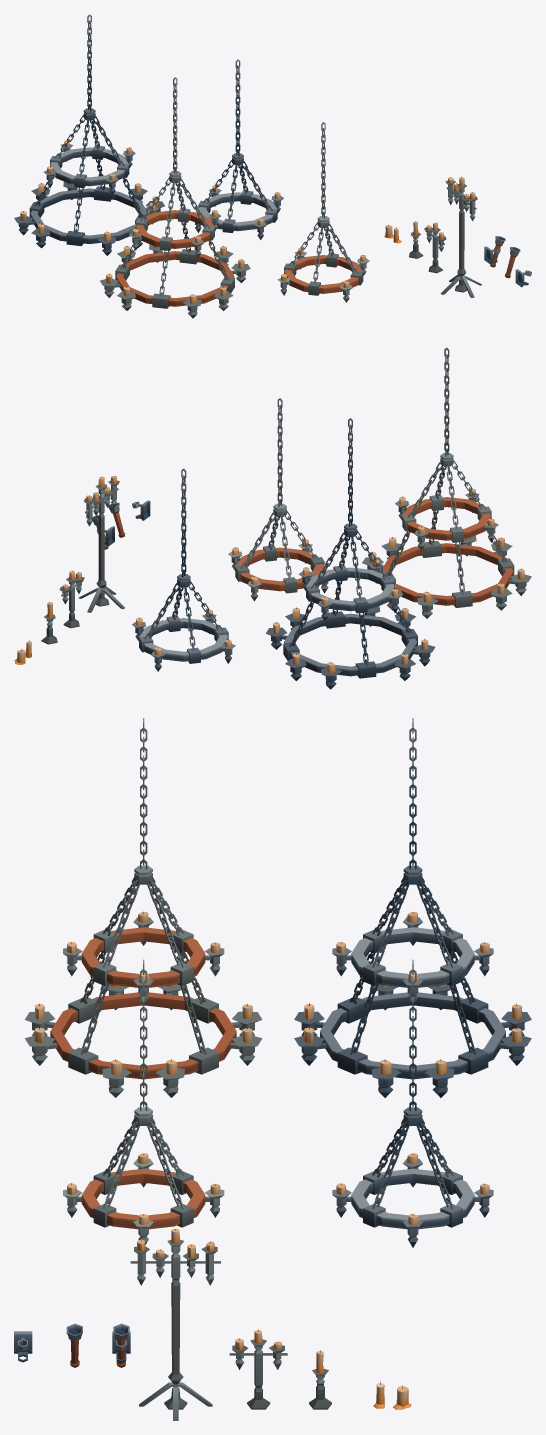
The model's file is Candles and Light.fbx.
The picture shows the model from 3 angles, top to bottom: view 1: azimuth 30°, elevation 25°; view 2: azimuth 150°, elevation 25°; view 3: azimuth 270°, elevation 25°; orthographic projection. The views are drawn at different scales.
Visible parts, largest first — view 1: Chandelier_wood, Chandelier, Chandelier_wood_small, Chandelier_small, Candle_holder.001, Candle_holder; view 2: Chandelier, Chandelier_wood, Chandelier_small, Chandelier_wood_small, Candle_holder.001, Candle_holder; view 3: Chandelier, Chandelier_wood, Chandelier_small, Chandelier_wood_small, Candle_holder.001, Candle_holder.
Boxes of the visible parts, bbox=[...] form: Chandelier_wood: bbox=[100, 77, 250, 318]; Chandelier: bbox=[14, 14, 164, 255]; Chandelier_wood_small: bbox=[277, 122, 369, 302]; Chandelier_small: bbox=[195, 59, 283, 239]; Candle_holder.001: bbox=[440, 177, 481, 297]; Candle_holder: bbox=[424, 222, 446, 273]; Chandelier: bbox=[266, 418, 435, 689]; Chandelier_wood: bbox=[362, 347, 531, 618]; Chandelier_small: bbox=[132, 468, 235, 671]; Chandelier_wood_small: bbox=[228, 398, 328, 601]; Candle_holder.001: bbox=[78, 476, 124, 612]; Candle_holder: bbox=[59, 570, 84, 628]; Chandelier: bbox=[294, 718, 531, 1097]; Chandelier_wood: bbox=[25, 718, 262, 1097]; Chandelier_small: bbox=[332, 959, 493, 1247]; Chandelier_wood_small: bbox=[63, 959, 224, 1244]; Candle_holder.001: bbox=[130, 1228, 220, 1420]; Candle_holder: bbox=[229, 1330, 287, 1409].
Size of the model in its own units: 5.24 by 3.76 by 3.85.
